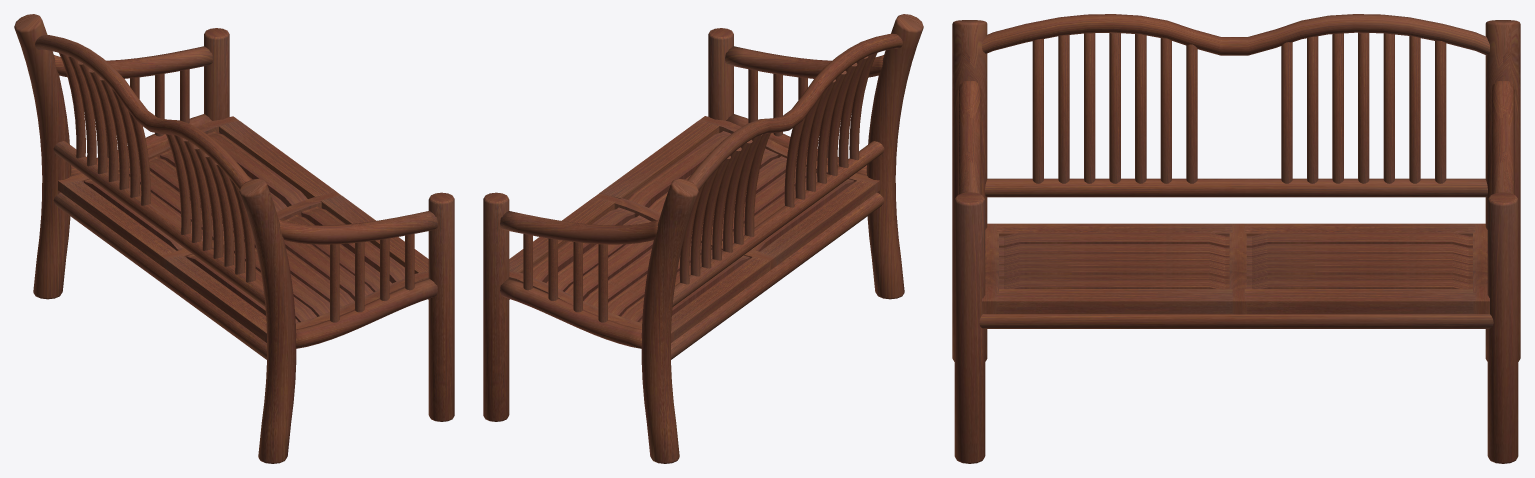
File: CK-shafa0003-CJBZ.FBX
3 renders of one model, left to right at view 1: azimuth 30°, elevation 25°; view 2: azimuth 150°, elevation 25°; view 3: azimuth 270°, elevation 25°, orthographic. The views are drawn at different scales.
Parts seen in each view (by area): view 1: CK-shafa0003-CJBZ; view 2: CK-shafa0003-CJBZ; view 3: CK-shafa0003-CJBZ.
Part boxes in pixels (x1=…): CK-shafa0003-CJBZ: x1=14, y1=14, x2=454, y2=463; CK-shafa0003-CJBZ: x1=483, y1=14, x2=923, y2=463; CK-shafa0003-CJBZ: x1=952, y1=14, x2=1520, y2=463.
Size of the model in its own units: 0.6793 by 0.876 by 1.33.
Materials: 1 (1 with a texture image).
